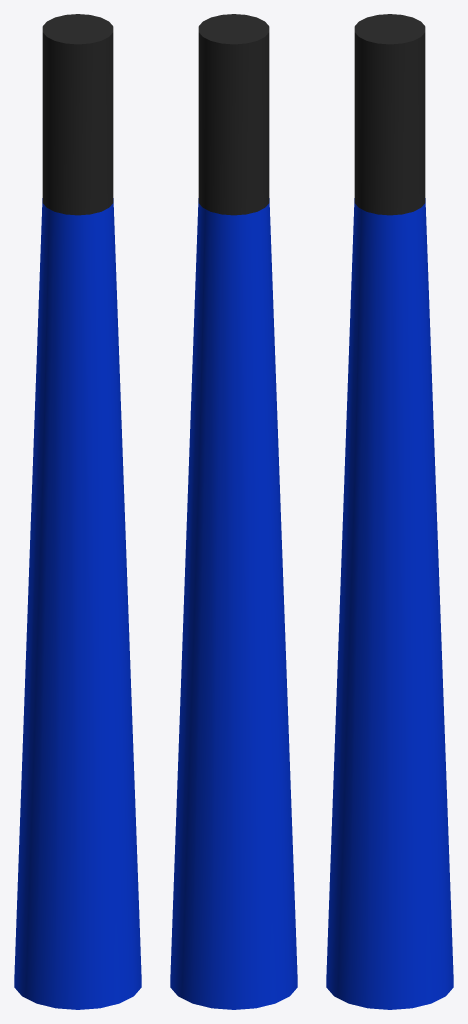
File: MOD_pilierB2.FBX
3 renders of one model, left to right at view 1: azimuth 30°, elevation 25°; view 2: azimuth 210°, elevation 25°; view 3: azimuth 330°, elevation 25°, orthographic.
Visible parts, largest first — view 1: mod_Pilierb; view 2: mod_Pilierb; view 3: mod_Pilierb.
Part boxes in pixels (x1,y1,x2,y2): mod_Pilierb: (14, 14, 141, 1009); mod_Pilierb: (170, 14, 297, 1009); mod_Pilierb: (326, 14, 453, 1009).
Size of the model in its own units: 0.2869 by 2.34 by 0.2826.
